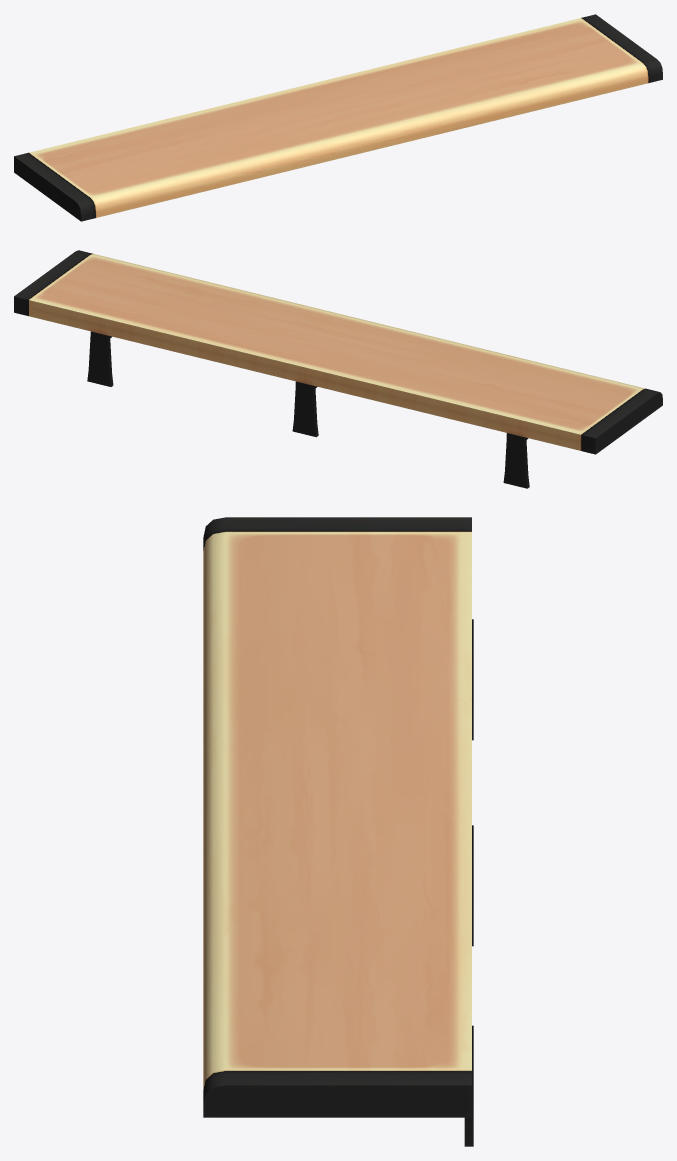
Rendered from OfficeOperationsDesk01_2.FBX.
3 renders of one model, top to bottom at view 1: azimuth 30°, elevation 25°; view 2: azimuth 150°, elevation 25°; view 3: azimuth 270°, elevation 25°, orthographic. The views are drawn at different scales.
Visible parts, largest first — view 1: OfficeOperationsDesk01_2; view 2: OfficeOperationsDesk01_2; view 3: OfficeOperationsDesk01_2.
Part boxes in pixels (box(x1,y1,x2,y2)): OfficeOperationsDesk01_2: box(14, 14, 662, 221); OfficeOperationsDesk01_2: box(14, 250, 662, 488); OfficeOperationsDesk01_2: box(203, 517, 473, 1146).
Size of what is drawn, in the model's own units: 1.5 by 0.1642 by 0.3018.
